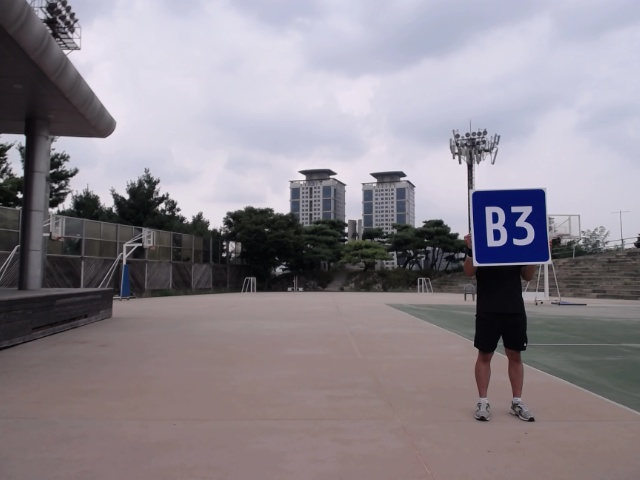delivery_b3: (469, 185, 555, 267)
